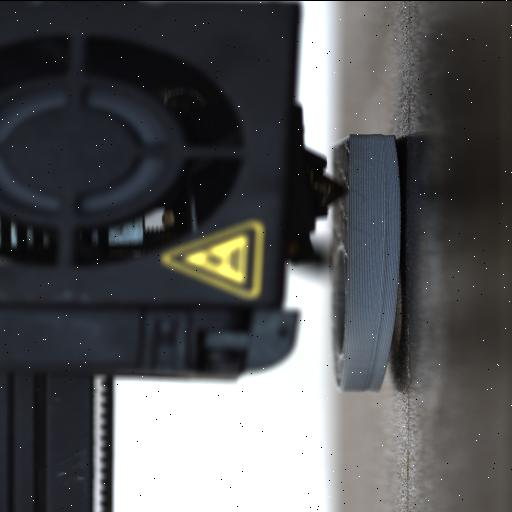warp: (374, 130, 412, 198)
